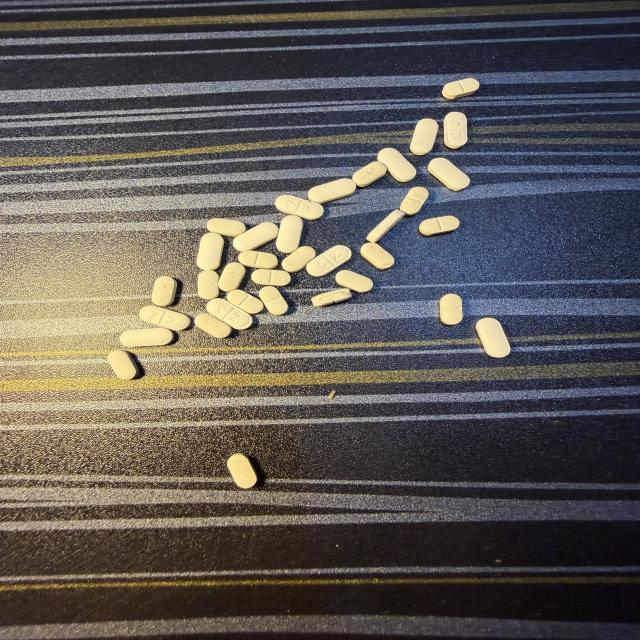pill: (307, 245, 351, 277), (207, 298, 252, 329), (428, 158, 470, 190), (476, 318, 510, 357), (378, 148, 416, 182), (233, 223, 278, 251), (139, 306, 190, 330), (308, 179, 356, 204), (275, 195, 323, 220), (367, 210, 404, 242), (276, 215, 303, 253), (228, 453, 257, 488), (410, 119, 438, 155), (120, 328, 173, 347), (197, 233, 223, 269), (360, 243, 394, 270), (108, 350, 139, 379), (227, 290, 263, 314), (195, 314, 231, 338), (282, 246, 315, 272), (336, 270, 373, 293), (259, 286, 288, 315), (444, 112, 467, 148), (353, 162, 386, 187), (400, 187, 428, 216), (419, 216, 459, 236), (311, 288, 352, 307), (442, 78, 479, 99), (439, 294, 463, 325), (219, 263, 245, 291), (152, 277, 177, 306), (207, 219, 246, 237), (238, 251, 277, 268), (252, 270, 290, 286), (198, 271, 219, 299), (328, 390, 336, 399)
